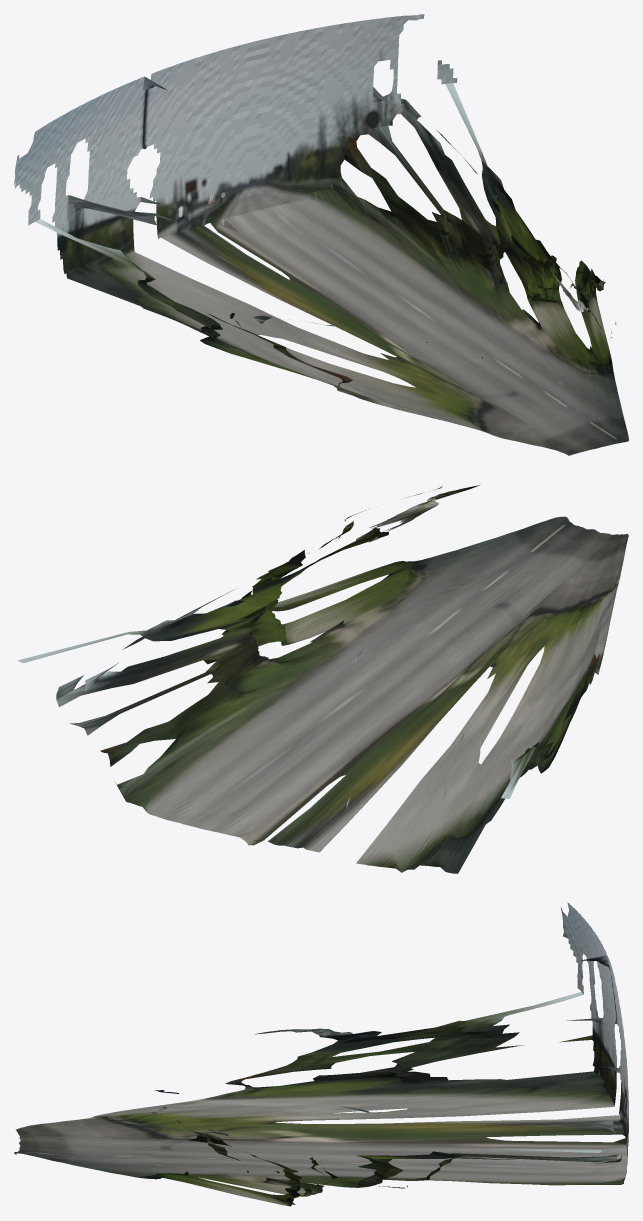
3 views of the same model, one above another, from view 1: azimuth 30°, elevation 25°; view 2: azimuth 150°, elevation 25°; view 3: azimuth 270°, elevation 25° (orthographic). The views are drawn at different scales.
Parts seen in each view (by area): view 1: defaultobject; view 2: defaultobject; view 3: defaultobject.
Boxes of the visible parts, bbox=[...] form: defaultobject: bbox=[14, 14, 628, 455]; defaultobject: bbox=[17, 484, 628, 873]; defaultobject: bbox=[14, 902, 628, 1206].
Size of the model in its own units: 34.46 by 13.1 by 44.94.
Materials: 1 (1 with a texture image).
